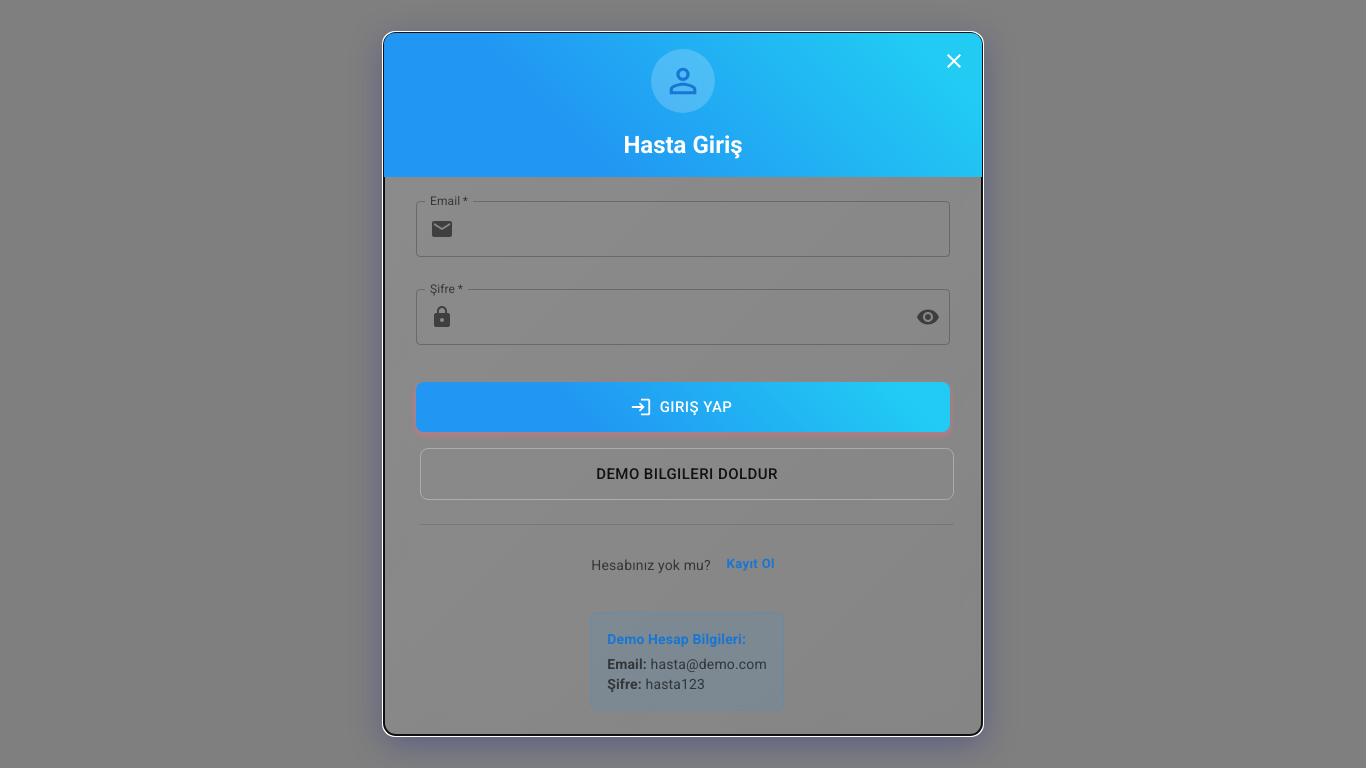
Test: LoginModal › validates register form fields
Switch to register mode
What coordinates should you click on to do the following:
click the button "Kayıt Ol"
I would click on:
 (751, 565)
Its box is [719, 549, 783, 580].
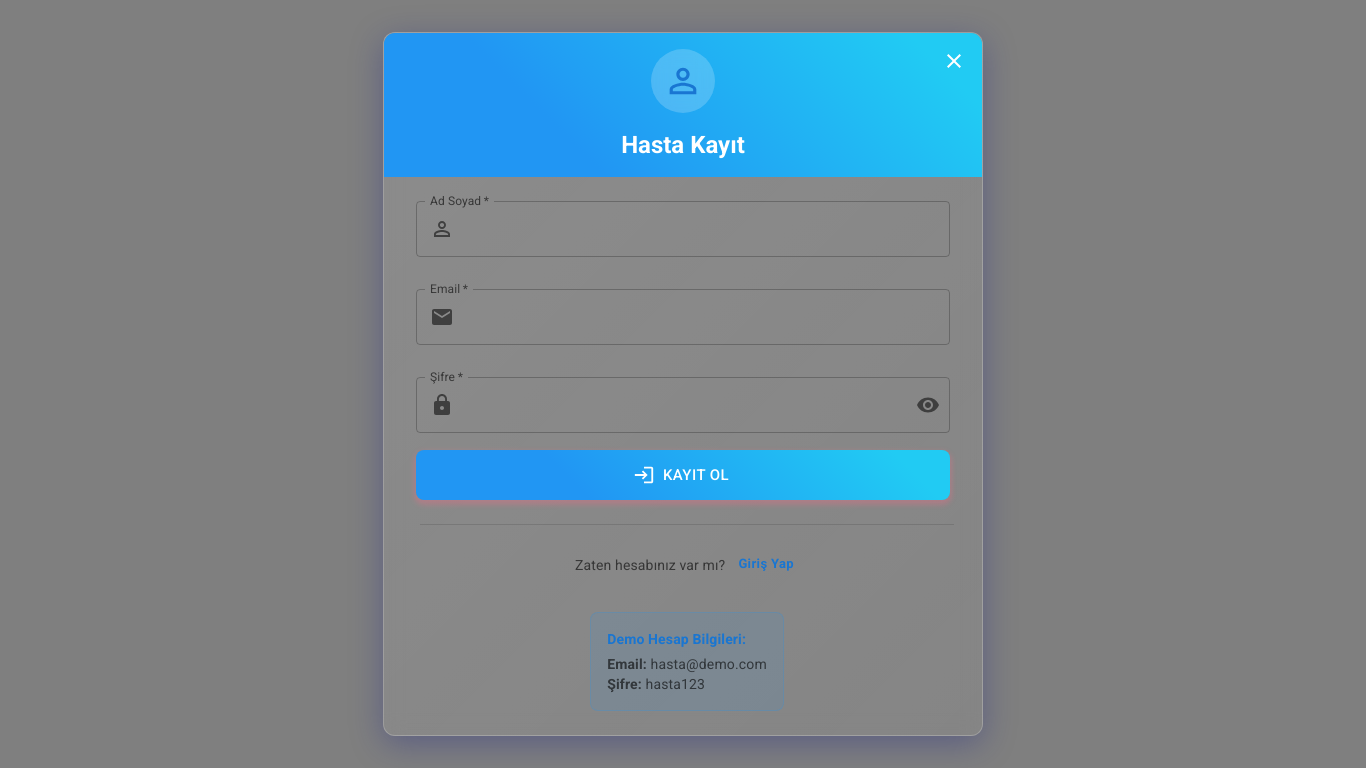
Try to submit without filling required fields
What coordinates should you click on to do the following:
click the button "Kayıt Ol"
I would click on:
 (683, 475)
Its box is [416, 450, 950, 500].
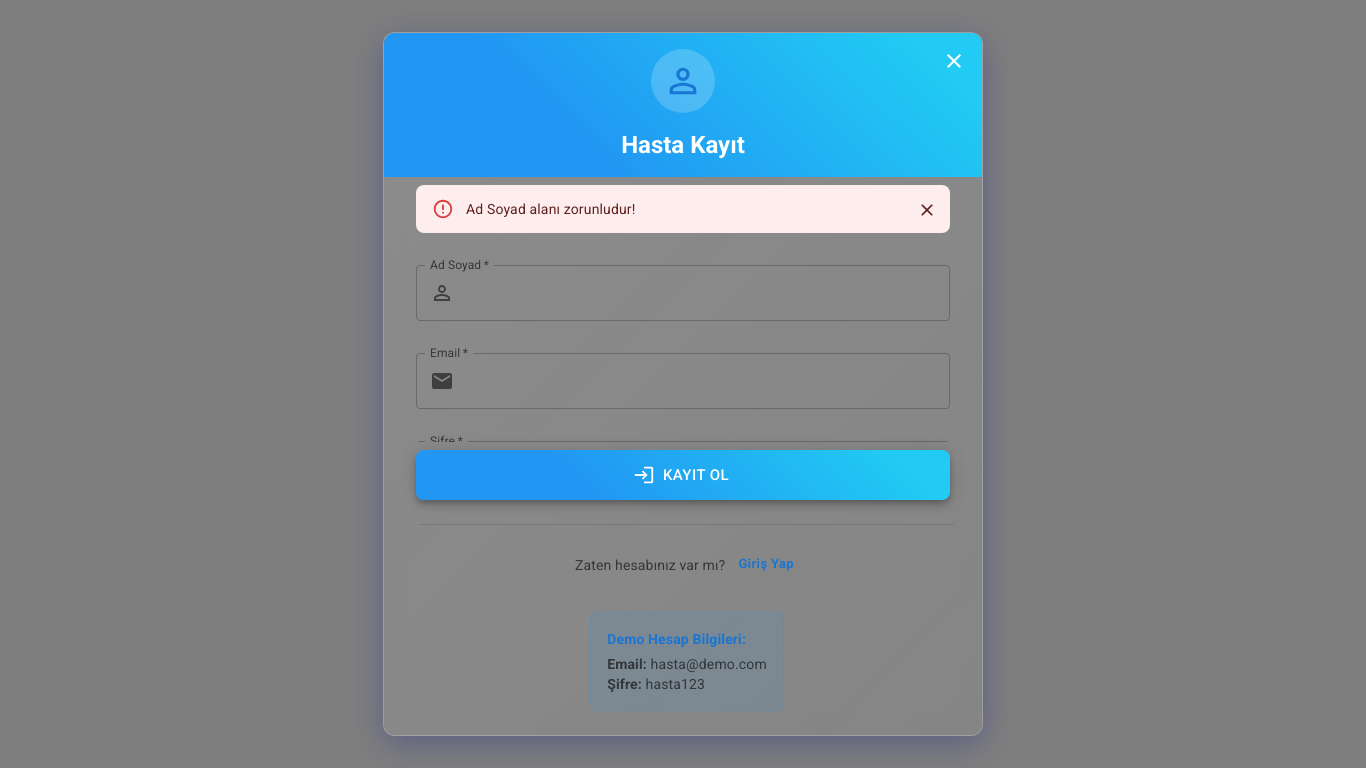
Expected: the text "Ad Soyad alanı zorunludur!" is shown, [466, 201, 636, 217]
